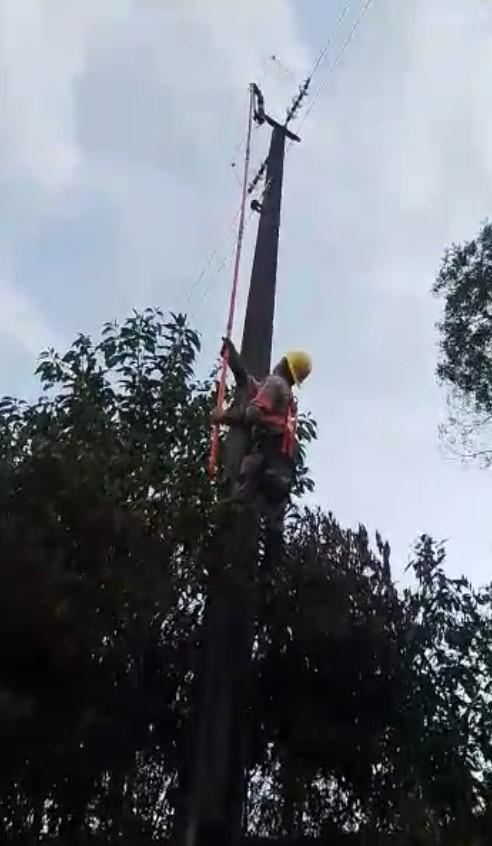Vara_Manobra: (206, 81, 256, 478)
